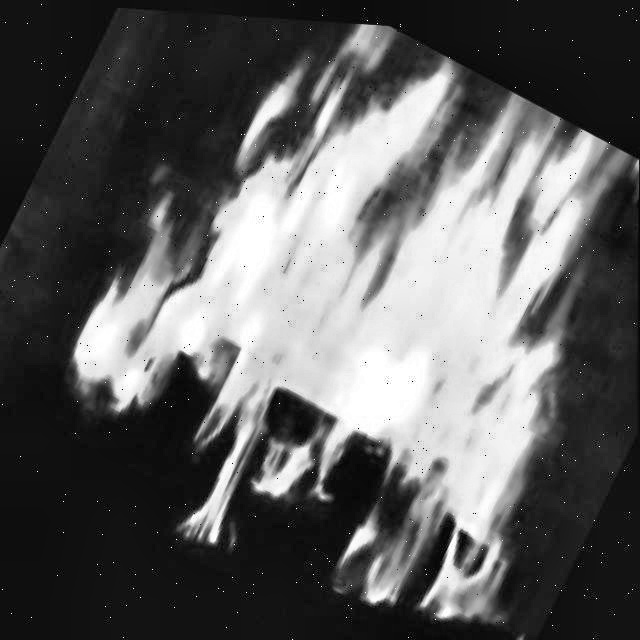Fire: (13, 1, 640, 640)
